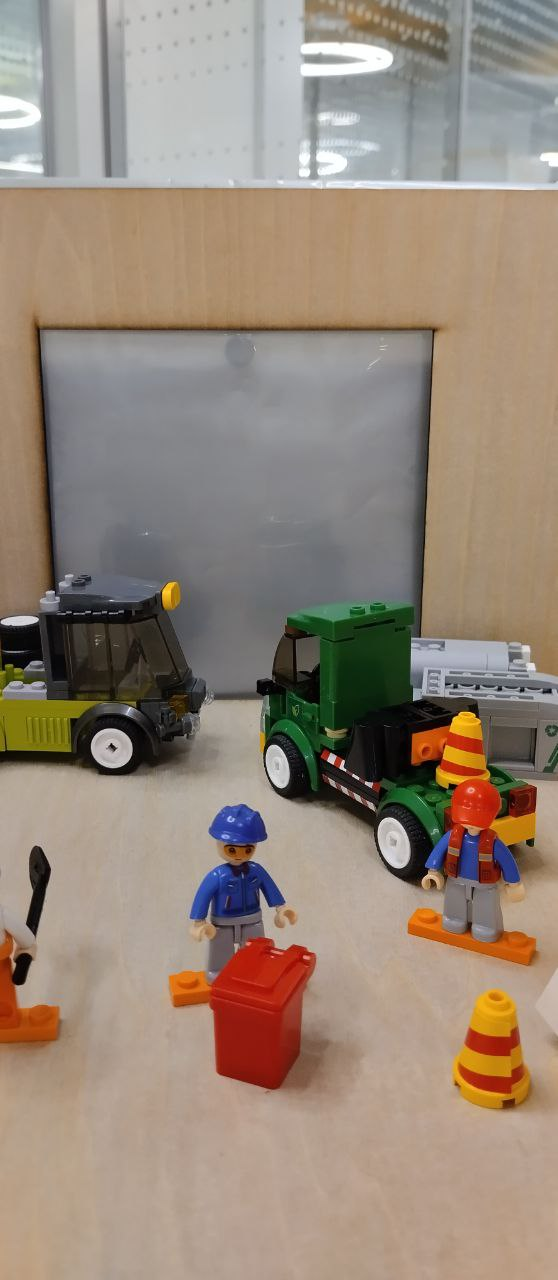Cone: (450, 989, 532, 1109), (441, 715, 485, 790)
Crane: (0, 564, 214, 775)
Object Black: (338, 690, 491, 771)
Object Red: (211, 934, 315, 1086)
Truck: (254, 600, 537, 884)
